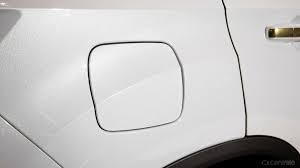closed: (85, 38, 194, 133)
